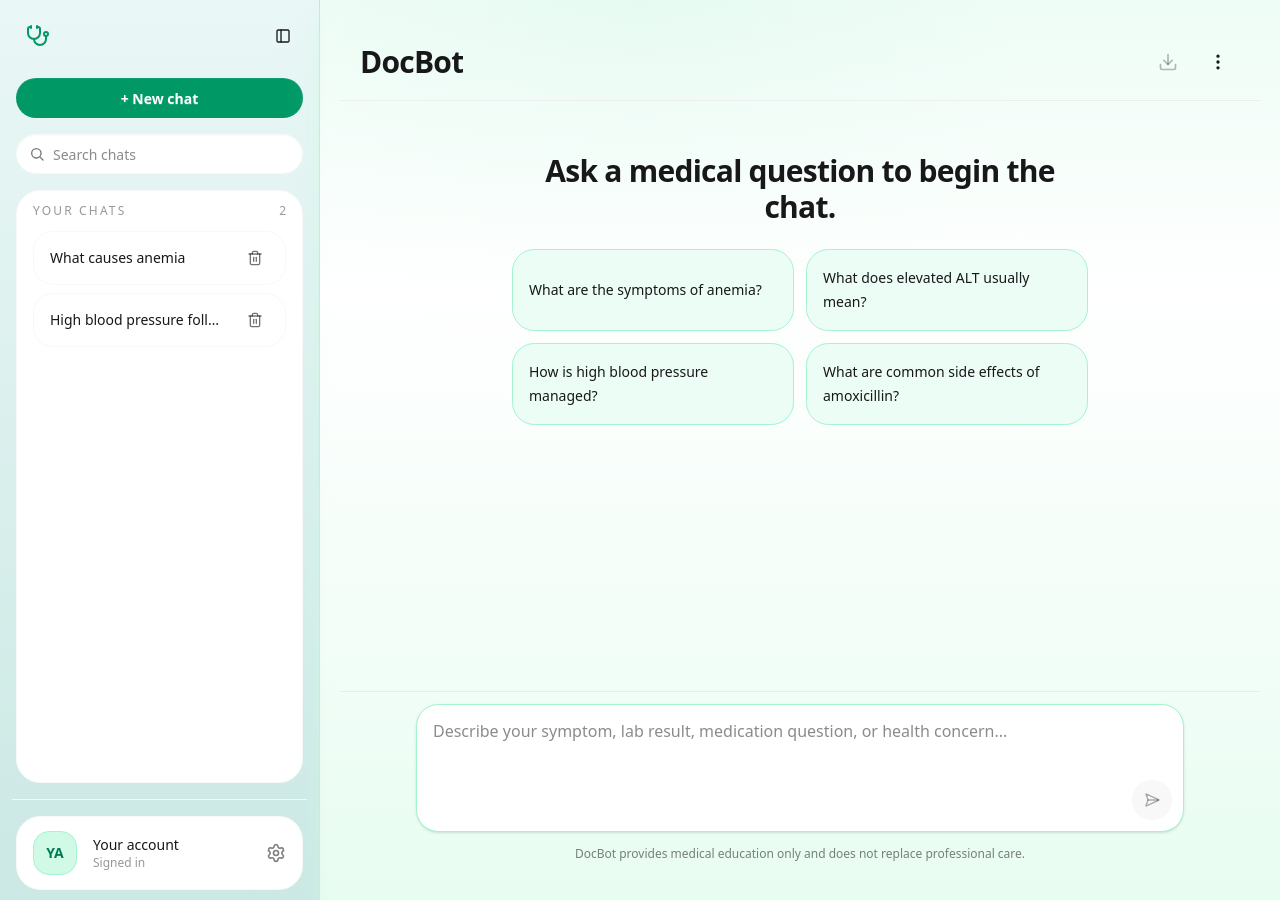
Test: chat shell › filters chats from the search field
Expected: the button "What causes anemia" is shown, [46,242,229,274]
Type "pressure" into the field with placeholder "Search chats" at (172, 154), box [53,135,290,173]
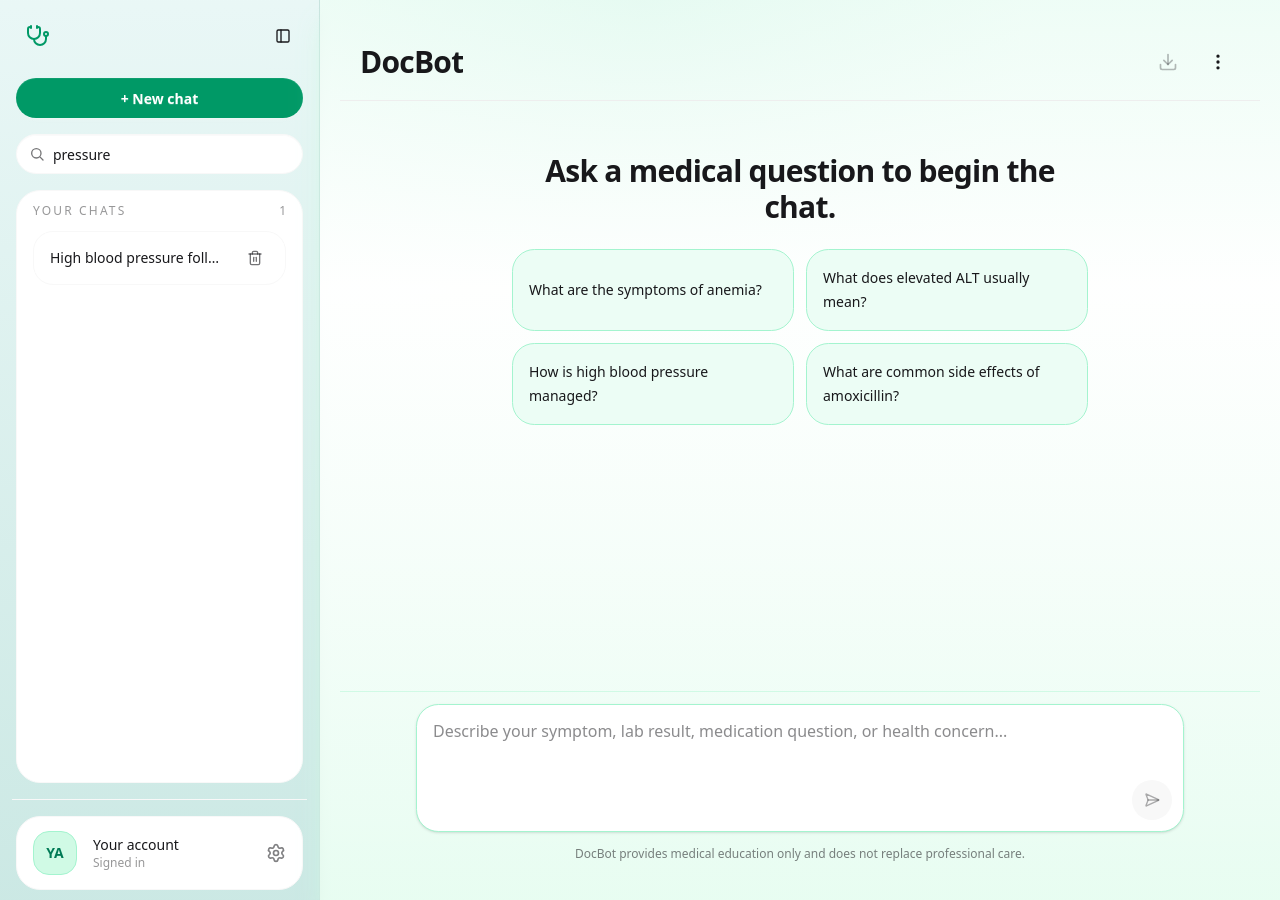
Expected: the button "High blood pressure follow-up" is shown, [46,242,229,274]
Expected: the button "What causes anemia" is gone
